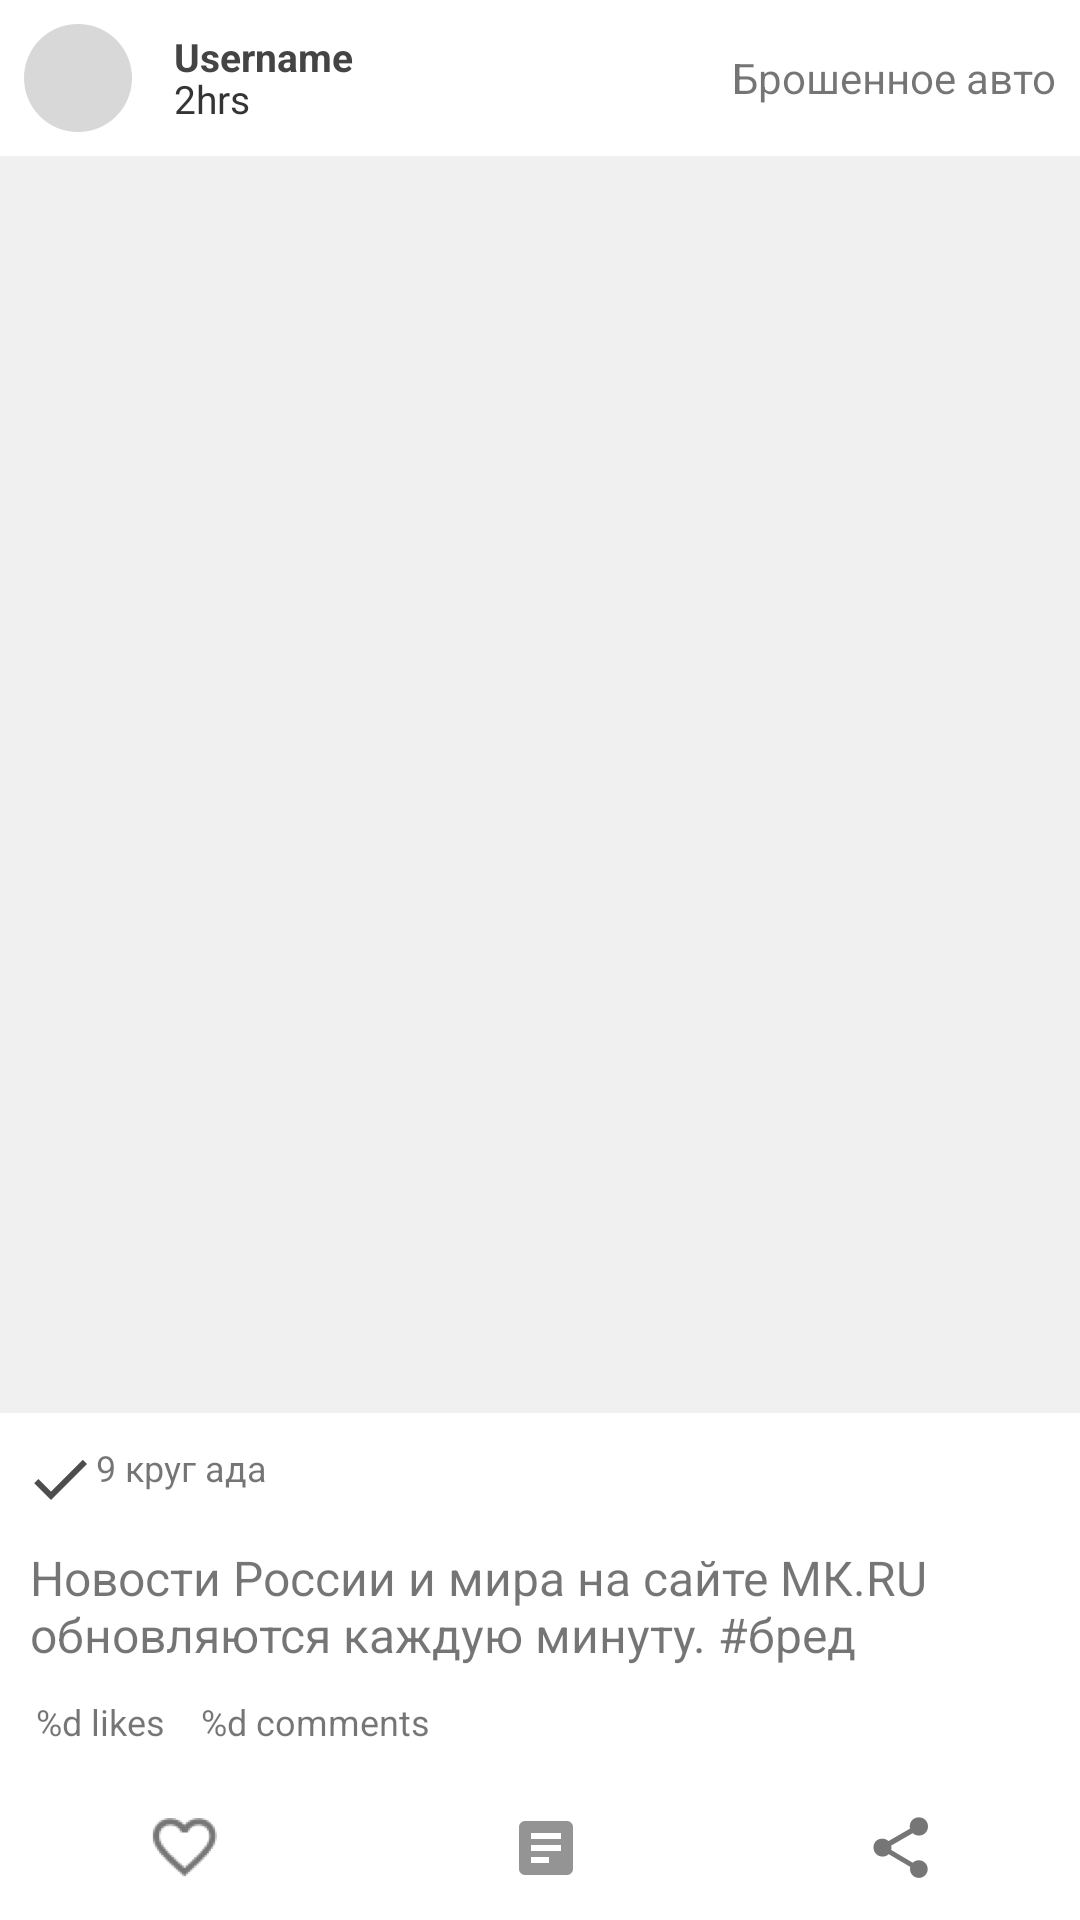

Locate icon controls on the screen. Image size 1080 × 1920, boxes as (x1, y1, x2, y2).
share: (873, 1817, 928, 1878)
